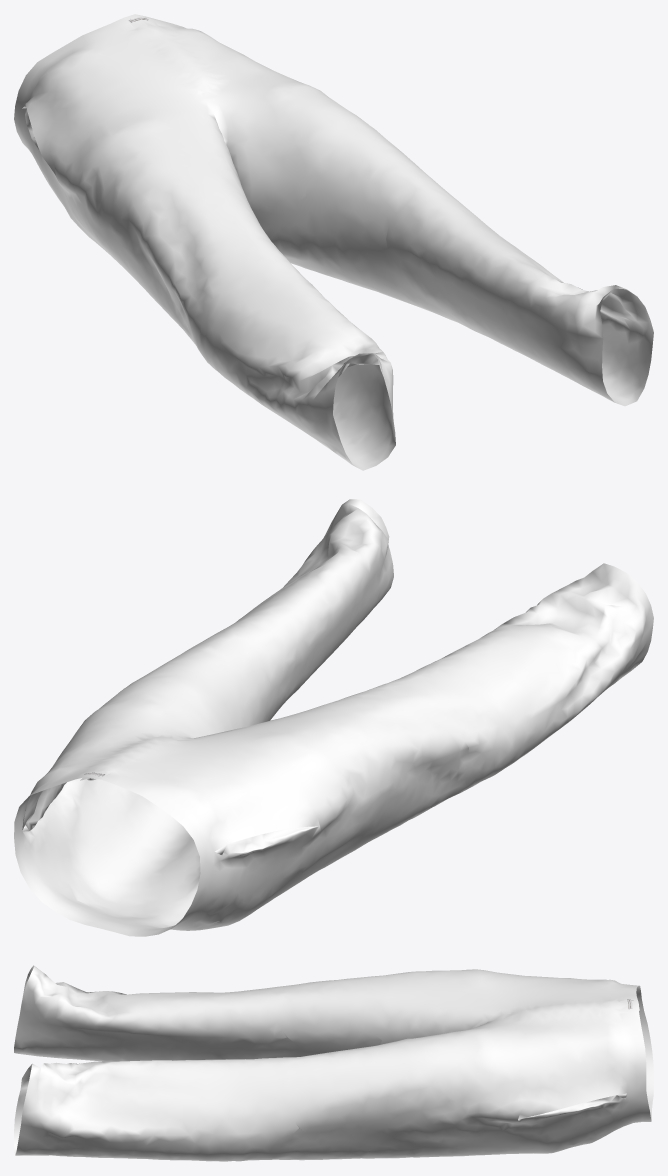
Rendered from trouser.glb.
The picture shows the model from 3 angles, top to bottom: view 1: azimuth 30°, elevation 25°; view 2: azimuth 150°, elevation 25°; view 3: azimuth 270°, elevation 25°; orthographic projection. The views are drawn at different scales.
Visible parts, largest first — view 1: trouser; view 2: trouser; view 3: trouser.
Part boxes in pixels (bbox=[...]): trouser: bbox=[14, 14, 653, 470]; trouser: bbox=[14, 499, 653, 936]; trouser: bbox=[14, 965, 653, 1161].
Bounding box in the file's own units: 0.5032 × 0.2497 × 1.05.
Materials: 5 (1 with a texture image).
